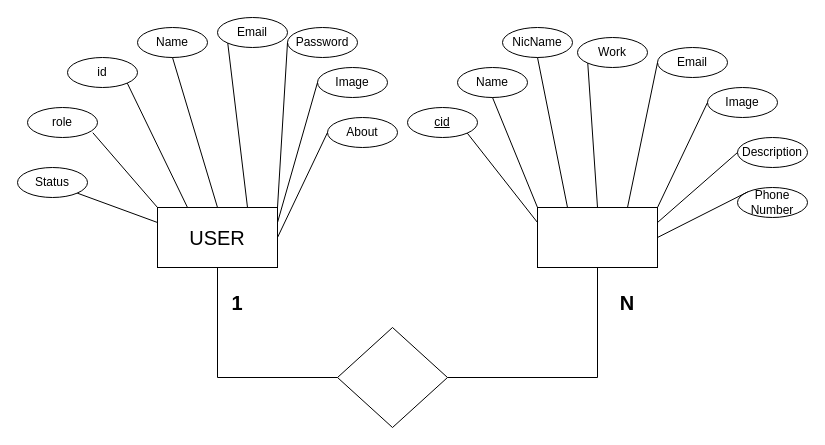
This 825x445 diagram has some shape labels left out. The shapes that lost their labels are listed below. From the top down, each one's centre as x and y in pixels, then its label:
At point 597,237: "CONTACT".
At point 392,377: "HAS".
